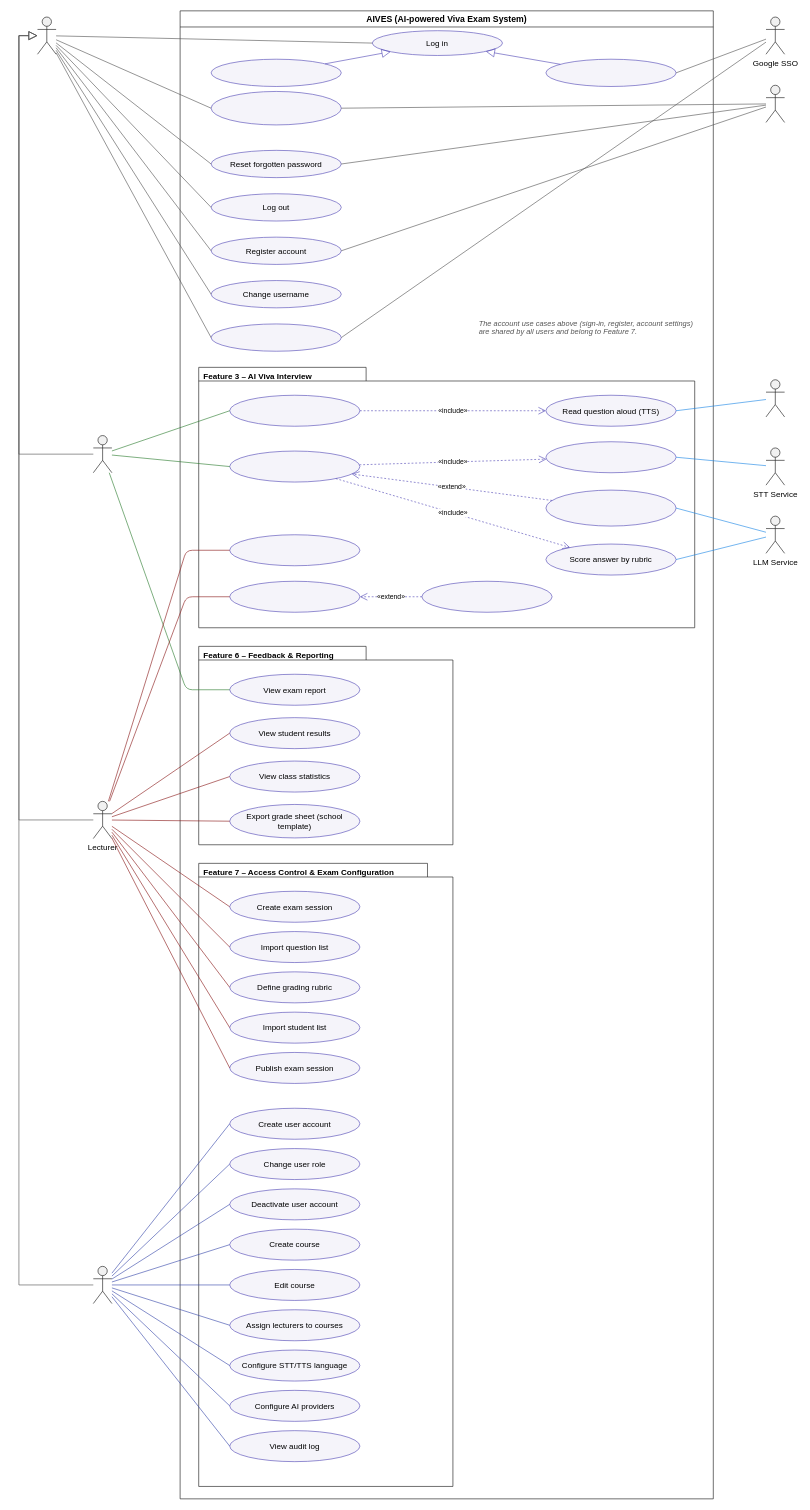
The diagram is 810 pixels wide and 1510 high, and some of its shapes have lost their labels. The shapes that lost their labels are listed below. From the top down, each one's centre as x and y in pixels, then its label:
At (x=46, y=35): "User".
At (x=275, y=72): "Log in with password".
At (x=610, y=72): "Log in with Google SSO".
At (x=275, y=108): "Set account name and password via email link".
At (x=775, y=103): "Email Service".
At (x=275, y=337): "Link Google account".
At (x=294, y=410): "Join oral exam session".
At (x=775, y=398): "TTS Service".
At (x=102, y=454): "Student".
At (x=294, y=466): "Answer question by voice".
At (x=610, y=457): "Convert speech to text (STT)".
At (x=610, y=507): "Generate adaptive follow-up question".
At (x=294, y=550): "Review interview result".
At (x=294, y=596): "Approve final score".
At (x=486, y=596): "Adjust final score".
At (x=102, y=1285): "Administrator".
